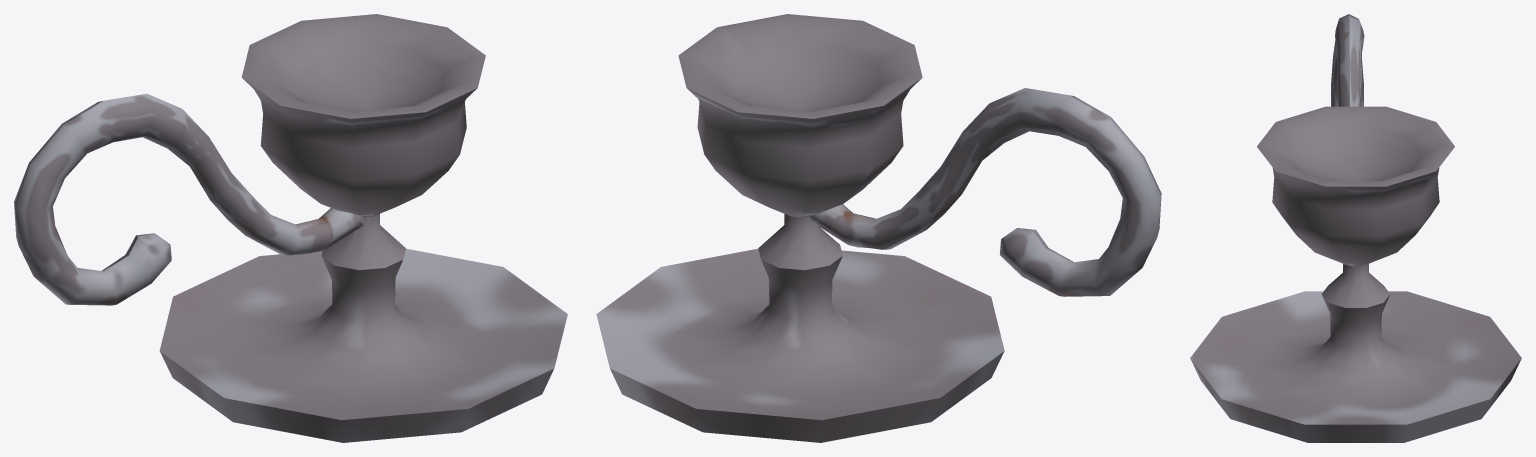
File: candle_stick.glb
The picture shows the model from 3 angles, left to right: view 1: azimuth 30°, elevation 25°; view 2: azimuth 150°, elevation 25°; view 3: azimuth 270°, elevation 25°; orthographic projection. The views are drawn at different scales.
Parts seen in each view (by area): view 1: CandleStick; view 2: CandleStick; view 3: CandleStick.
Boxes of the visible parts, <box> form: CandleStick: <box>14,14,567,442</box>; CandleStick: <box>596,14,1161,442</box>; CandleStick: <box>1190,14,1521,442</box>.
Bounding box in the file's own units: 0.2609 × 0.1552 × 0.1794.
Materials: 1 (1 with a texture image).
